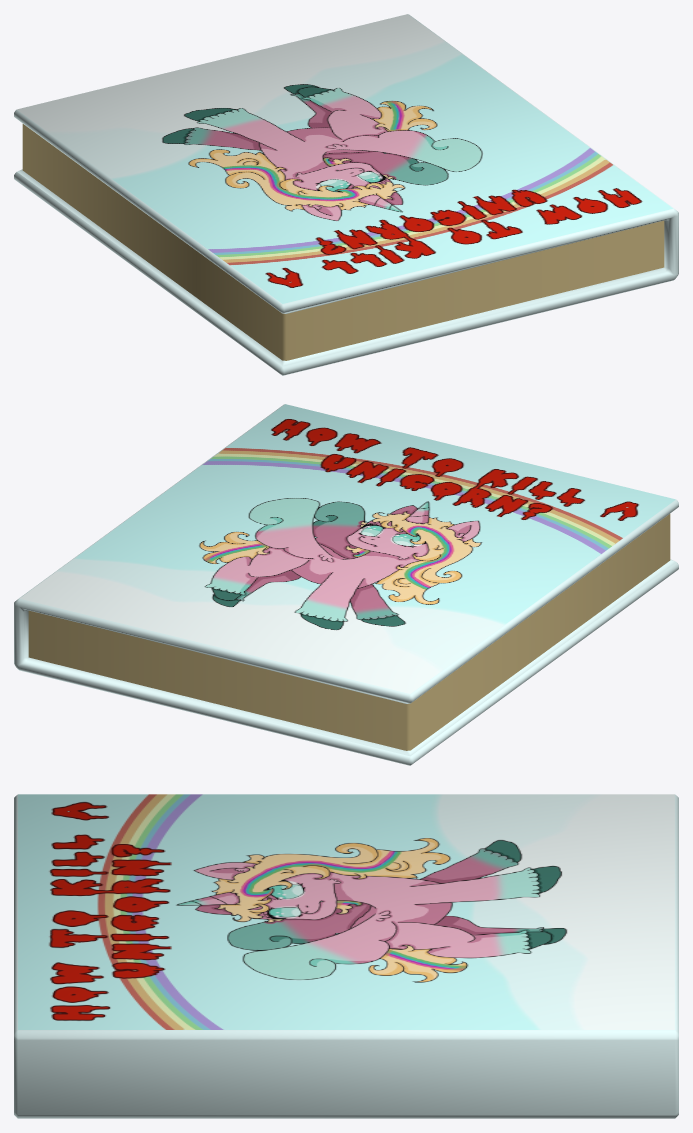
The model's file is Main book1.fbx.
3 views of the same model, one above another, from view 1: azimuth 30°, elevation 25°; view 2: azimuth 150°, elevation 25°; view 3: azimuth 270°, elevation 25° (orthographic). The views are drawn at different scales.
Visible parts, largest first — view 1: Cube; view 2: Cube; view 3: Cube.
Boxes of the visible parts, x1,y1,x2,y2 form: Cube: (14, 14, 678, 375); Cube: (14, 404, 678, 765); Cube: (14, 794, 678, 1118).
Size of the model in its own units: 0.2141 by 0.0368 by 0.25.
